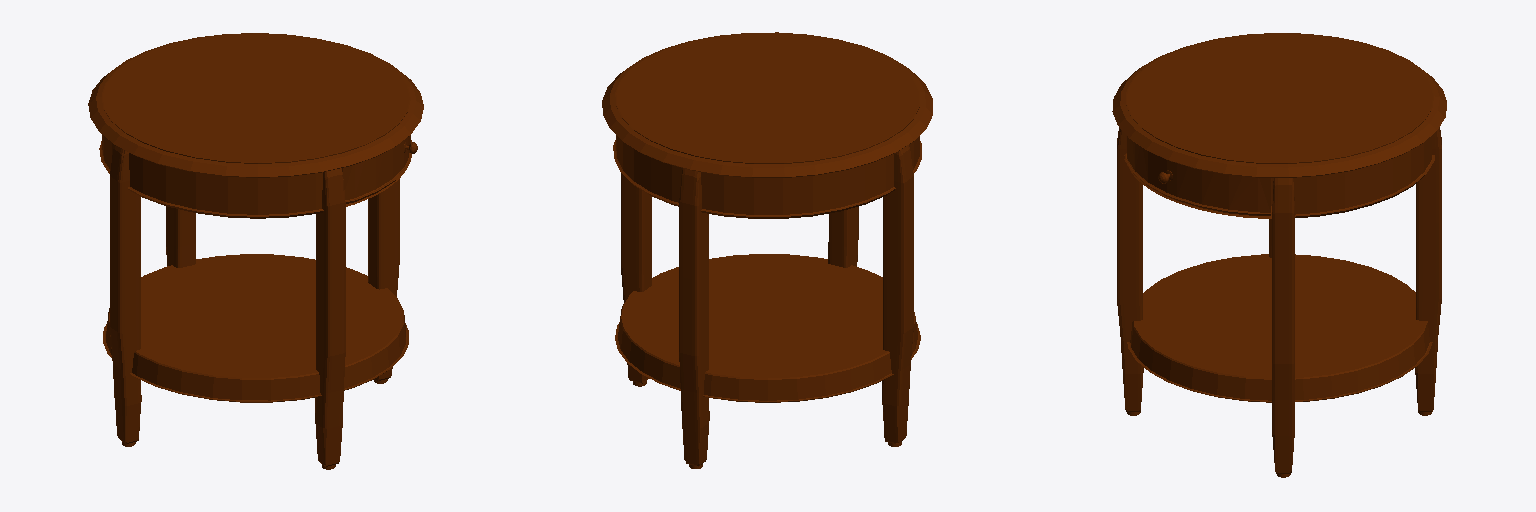
The model's file is MuebleIndividual.obj.
3 renders of one model, left to right at view 1: azimuth 30°, elevation 25°; view 2: azimuth 150°, elevation 25°; view 3: azimuth 270°, elevation 25°, orthographic.
Visible parts, largest first — view 1: tabletop_high_Material.002, tablebot_high_Material.002, leg3_high_Material.002, leg2_high_Material.002, leg4_high_Material.002, drawer_high_Material.002, leg1_high_Material.002; view 2: tabletop_high_Material.002, tablebot_high_Material.002, leg1_high_Material.002, leg2_high_Material.002, leg4_high_Material.002, leg3_high_Material.002; view 3: tabletop_high_Material.002, tablebot_high_Material.002, leg4_high_Material.002, leg3_high_Material.002, leg1_high_Material.002, drawer_high_Material.002.
Part boxes in pixels (x1,y1,x2,y2): tabletop_high_Material.002: (88, 33, 423, 218); tablebot_high_Material.002: (103, 254, 408, 402); leg3_high_Material.002: (315, 168, 345, 469); leg2_high_Material.002: (110, 145, 141, 446); leg4_high_Material.002: (368, 179, 399, 383); drawer_high_Material.002: (342, 135, 411, 203); leg1_high_Material.002: (166, 206, 195, 267); tabletop_high_Material.002: (602, 32, 932, 218); tablebot_high_Material.002: (615, 254, 920, 402); leg1_high_Material.002: (679, 168, 709, 468); leg2_high_Material.002: (882, 145, 913, 446); leg4_high_Material.002: (621, 173, 651, 386); leg3_high_Material.002: (828, 207, 858, 267); tabletop_high_Material.002: (1112, 33, 1446, 218); tablebot_high_Material.002: (1127, 254, 1432, 402); leg4_high_Material.002: (1272, 178, 1294, 477); leg3_high_Material.002: (1117, 127, 1143, 415); leg1_high_Material.002: (1415, 127, 1441, 415); drawer_high_Material.002: (1124, 136, 1271, 215).
Size of the model in its own units: 0.8583 by 0.8943 by 0.8605.